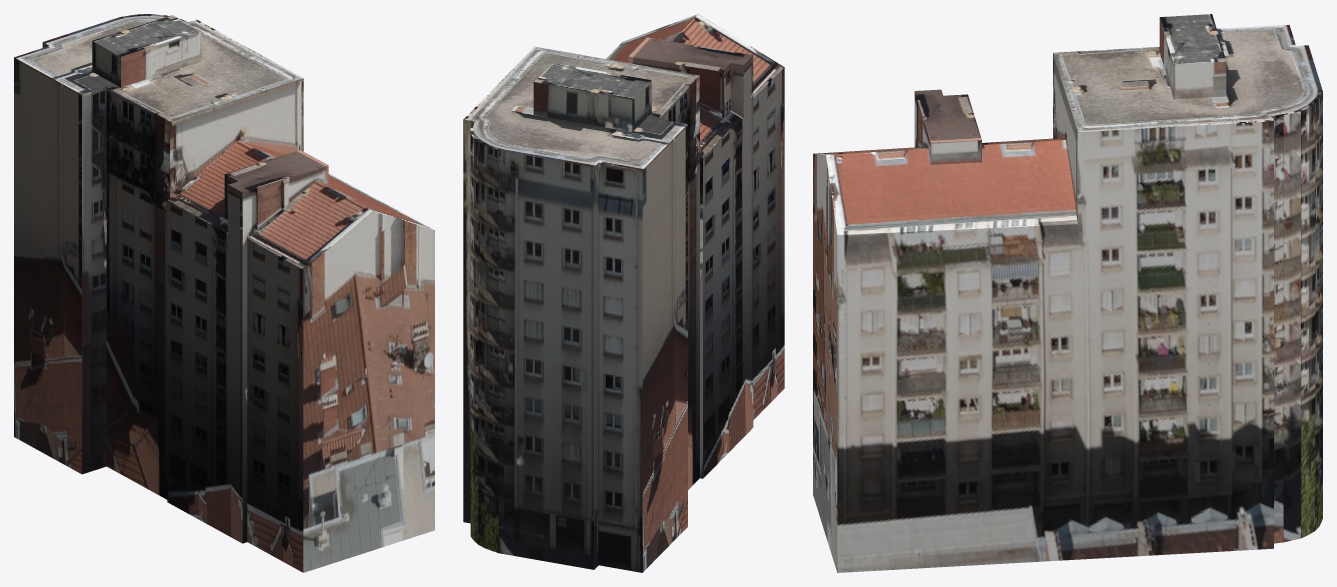
3 renders of one model, left to right at view 1: azimuth 30°, elevation 25°; view 2: azimuth 150°, elevation 25°; view 3: azimuth 270°, elevation 25°, orthographic. The views are drawn at different scales.
Parts seen in each view (by area): view 1: Z_UP; view 2: Z_UP; view 3: Z_UP.
Boxes of the visible parts, x1=… form: Z_UP: x1=14, y1=14, x2=434, y2=572; Z_UP: x1=463, y1=14, x2=784, y2=572; Z_UP: x1=813, y1=14, x2=1322, y2=572.
Size of the model in its own units: 18.17 by 32.42 by 32.4.
2 materials, 1 textured.
